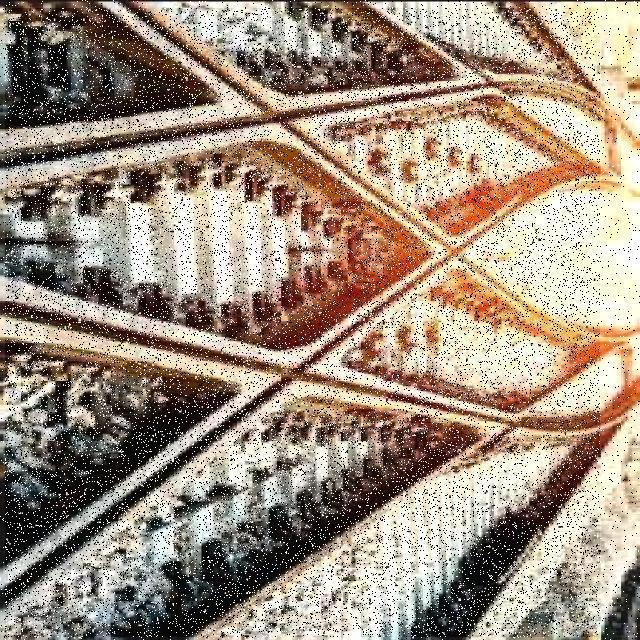rail: (6, 9, 601, 638)
